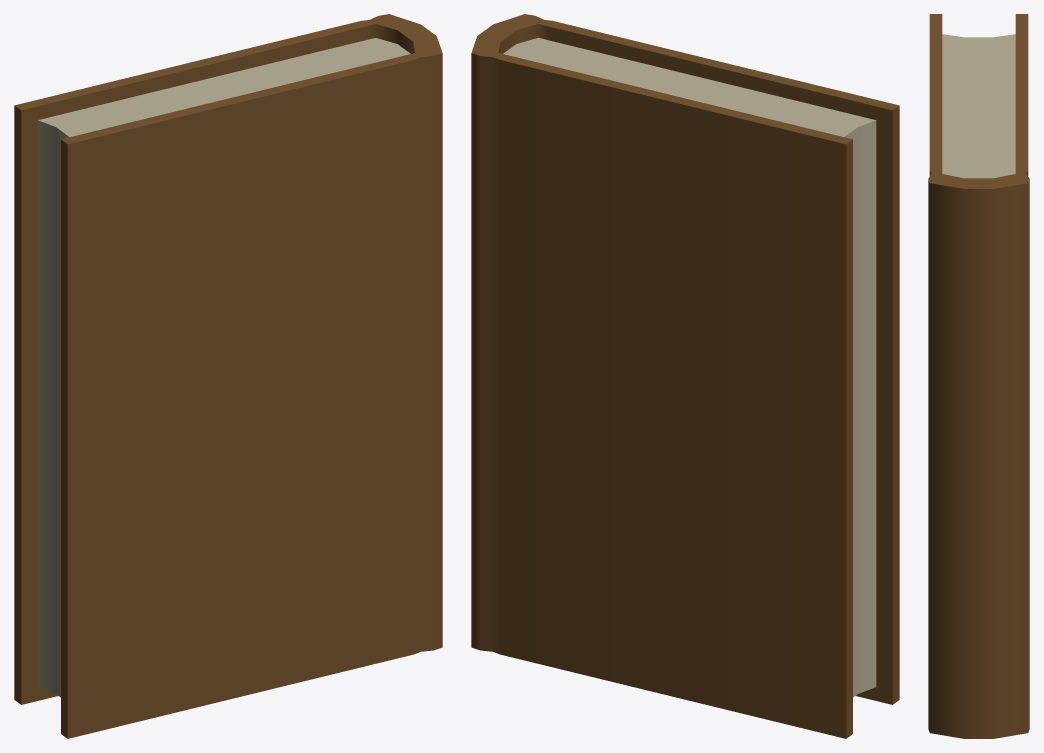
File: Book_Small_Brown.glb
3 renders of one model, left to right at view 1: azimuth 30°, elevation 25°; view 2: azimuth 150°, elevation 25°; view 3: azimuth 270°, elevation 25°, orthographic. The views are drawn at different scales.
Parts seen in each view (by area): view 1: Book_Small_Brown; view 2: Book_Small_Brown; view 3: Book_Small_Brown.
Boxes of the visible parts, x1,y1,x2,y2 form: Book_Small_Brown: (14,14,442,738); Book_Small_Brown: (471,14,899,738); Book_Small_Brown: (928,14,1029,738).
Bounding box in the file's own units: 0.2569 × 0.3764 × 0.063.
2 materials, 2 textured.
